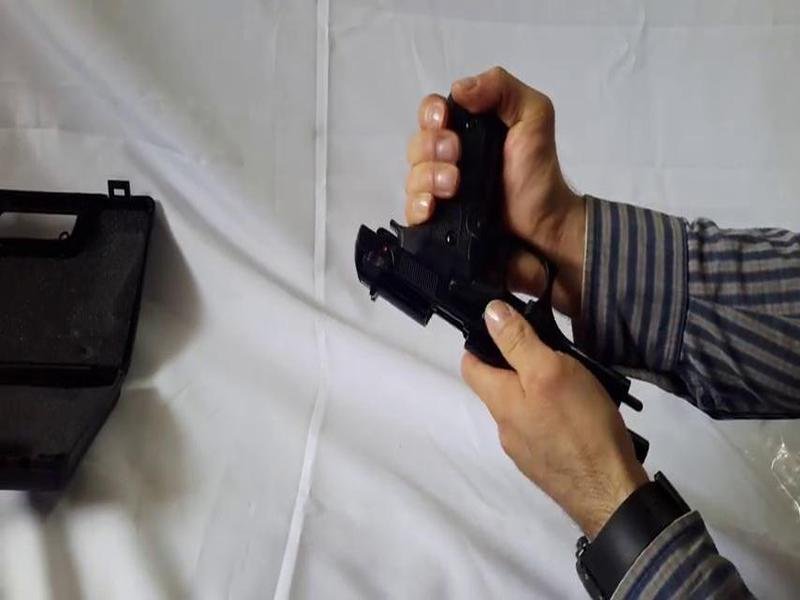Pistola: (326, 77, 675, 468)
